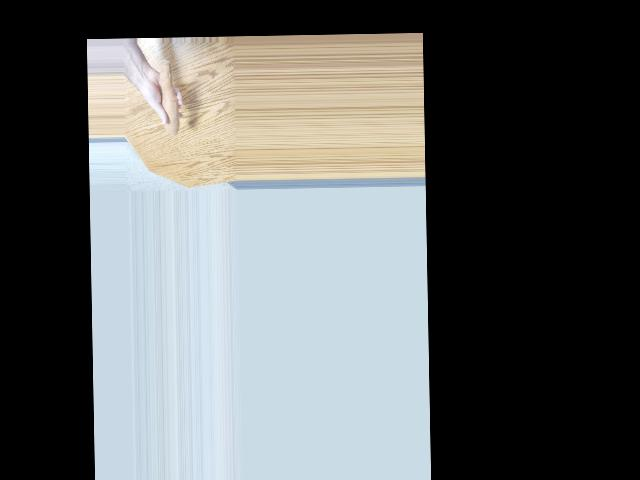sweet_potato: (155, 57, 179, 140)
